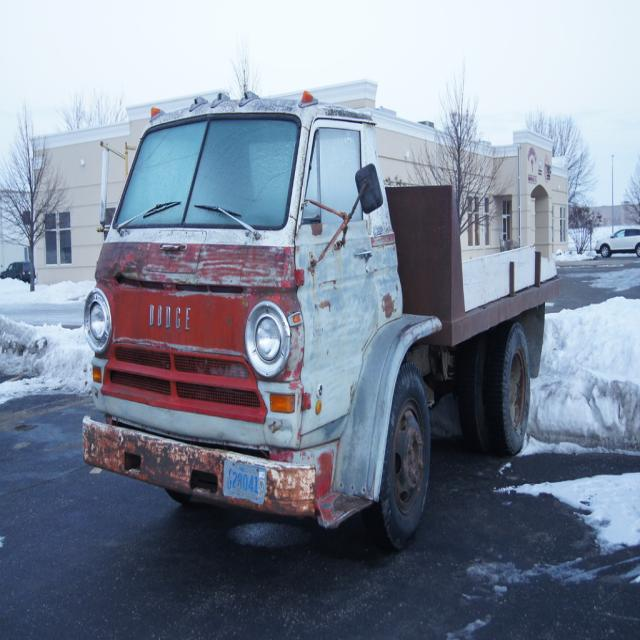car: (594, 226, 639, 256)
